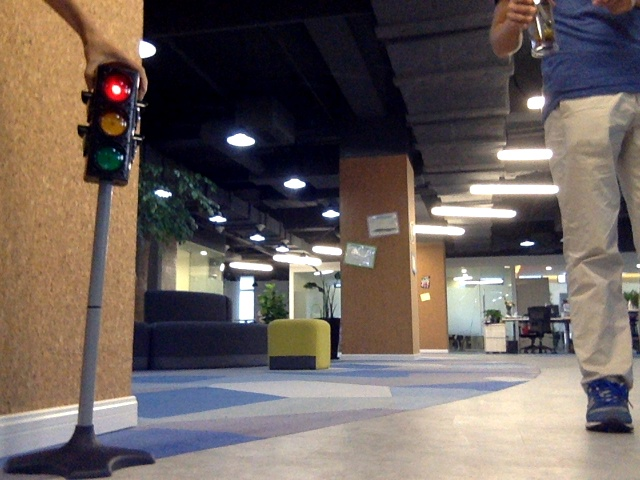red: (96, 72, 128, 175)
